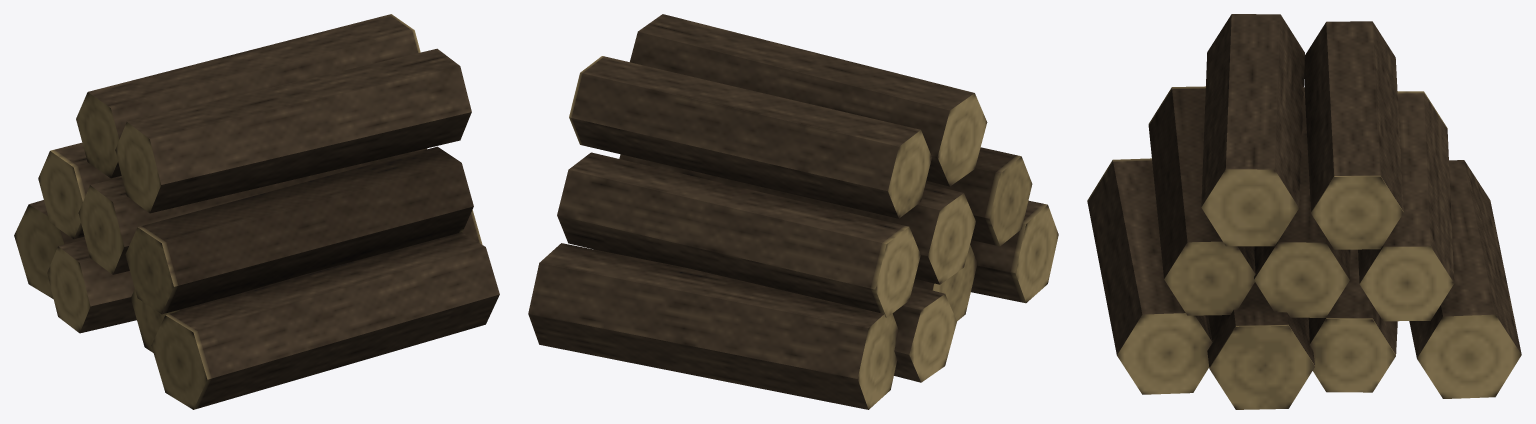
File: Firewood_Pile_01.obj
The picture shows the model from 3 angles, left to right: view 1: azimuth 30°, elevation 25°; view 2: azimuth 150°, elevation 25°; view 3: azimuth 270°, elevation 25°; orthographic projection. The views are drawn at different scales.
Visible parts, largest first — view 1: Firewood_Pile_01; view 2: Firewood_Pile_01; view 3: Firewood_Pile_01.
Part boxes in pixels (x1,y1,x2,y2): Firewood_Pile_01: (14,14,499,409); Firewood_Pile_01: (528,14,1058,409); Firewood_Pile_01: (1087,14,1521,409).
Bounding box in the file's own units: 0.617 × 0.3852 × 0.6504.
Materials: 1 (1 with a texture image).
